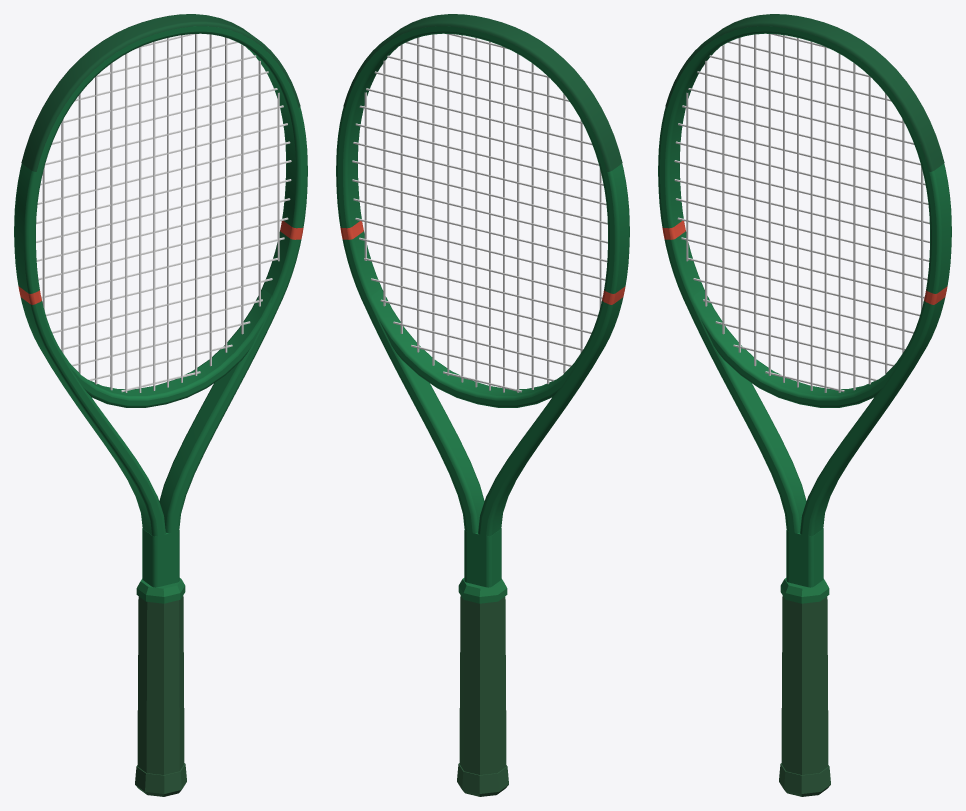
Rendered from wilson-blade-pro-98-16x19-v10-2026.glb.
3 renders of one model, left to right at view 1: azimuth 30°, elevation 25°; view 2: azimuth 150°, elevation 25°; view 3: azimuth 330°, elevation 25°, orthographic.
Visible parts, largest first — view 1: frame, strings_mains, strings_crosses, grip, bumper, butt_cap, collar; view 2: frame, strings_mains, strings_crosses, grip, bumper, butt_cap, collar; view 3: frame, strings_mains, strings_crosses, grip, bumper, butt_cap, collar.
Part boxes in pixels (x1,y1,x2,y2): frame: [14, 26, 307, 587]; strings_mains: [42, 34, 279, 392]; strings_crosses: [36, 34, 291, 392]; grip: [137, 595, 184, 774]; bumper: [21, 14, 300, 171]; butt_cap: [135, 763, 186, 796]; collar: [136, 578, 185, 603]; frame: [336, 26, 629, 587]; strings_mains: [364, 34, 601, 392]; strings_crosses: [352, 34, 607, 392]; grip: [459, 595, 506, 774]; bumper: [343, 14, 622, 171]; butt_cap: [457, 763, 508, 796]; collar: [458, 578, 507, 603]; frame: [658, 26, 951, 587]; strings_mains: [686, 34, 923, 392]; strings_crosses: [674, 34, 929, 392]; grip: [781, 595, 828, 774]; bumper: [665, 14, 944, 171]; butt_cap: [779, 763, 830, 796]; collar: [780, 578, 829, 603].
Size of the model in its own units: 0.2662 by 0.6861 by 0.0396.
